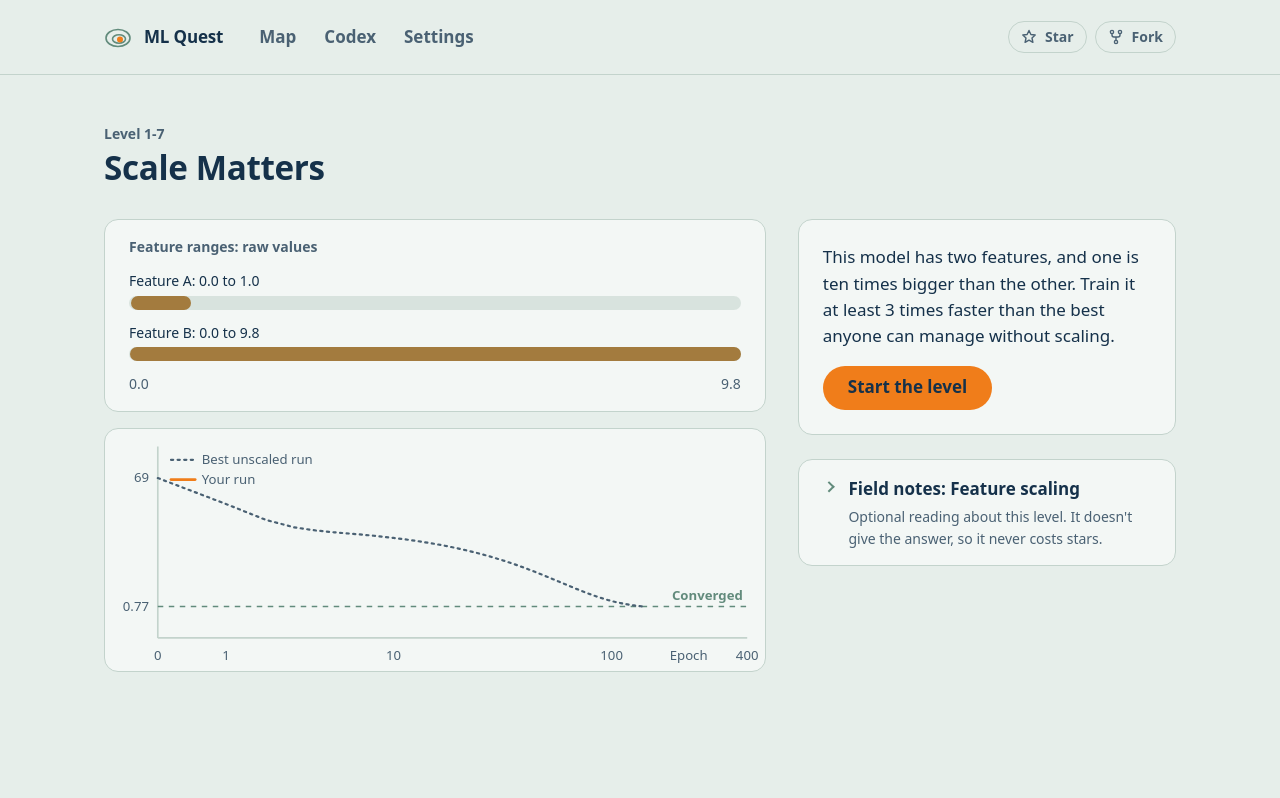
Scenario: App › Scale Matters: no scaling is 1× at best; scaling plus a bigger learning rate is far faster
The image size is (1280, 798).
Click the button "Start the level": [907, 388] box [823,366,992,410]
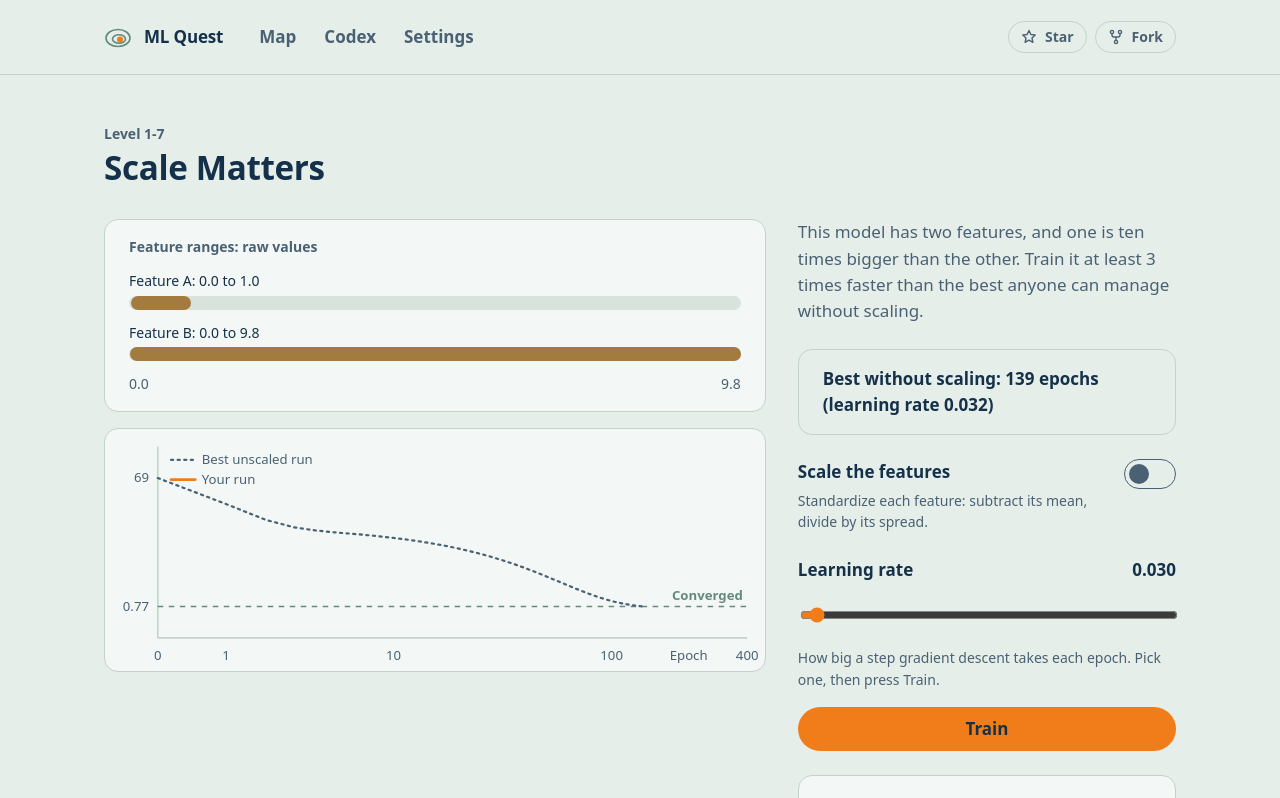
Check: the text "Best without scaling: 139 epochs (learning rate 0.032)" is shown, box [798,349,1176,435]
Click the button "Train": [987, 729] box [798,707,1176,751]
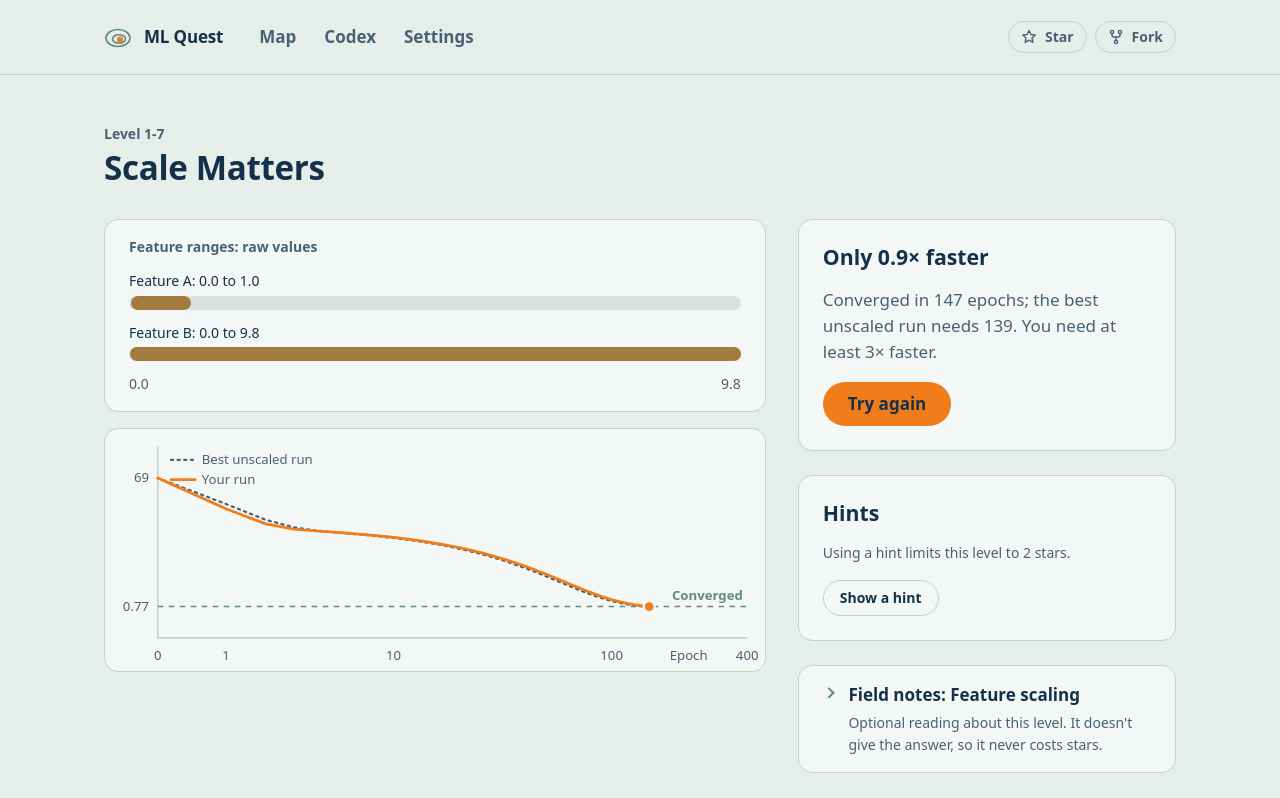
Check: the heading "Only 0.9× faster" is shown, box [823,242,989,271]
Click the button "Try again": [887, 404] box [823,382,951,426]
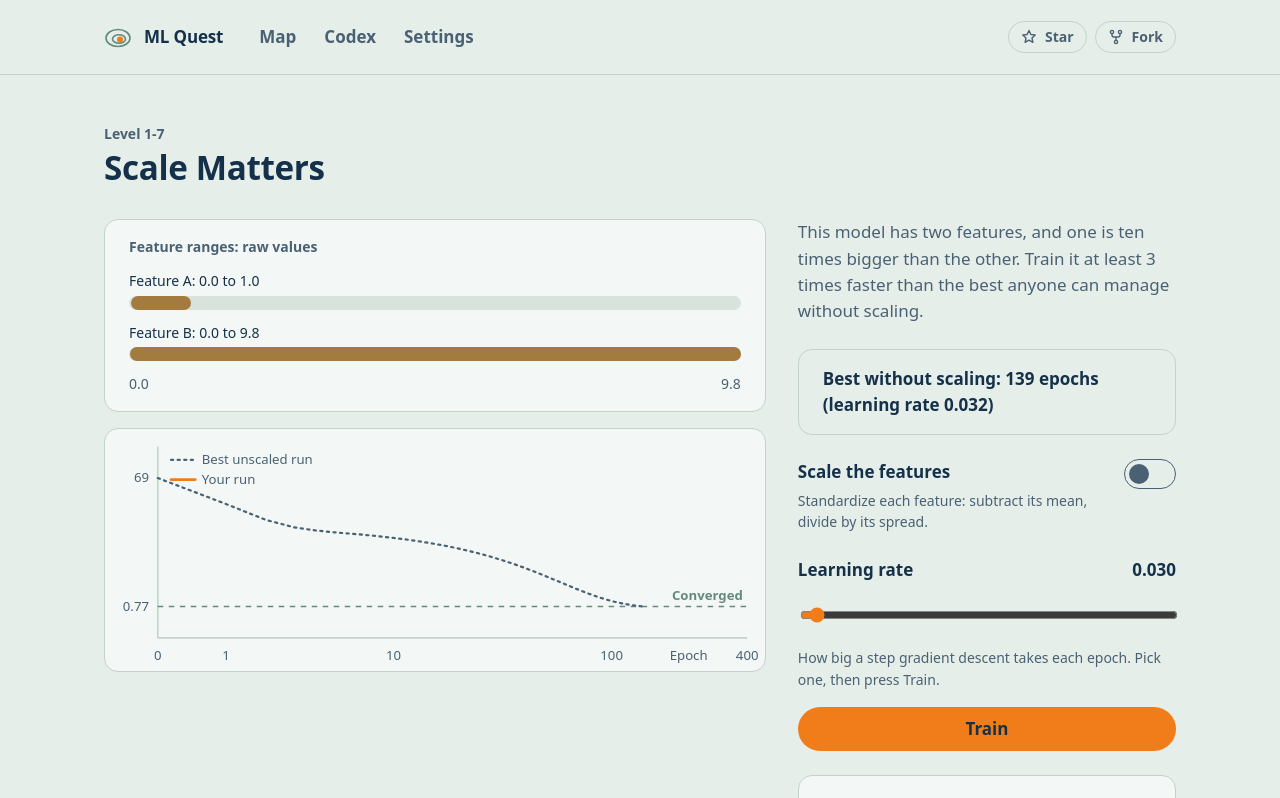
Click the switch named "Scale the features": [1150, 474] box [1124,459,1176,489]
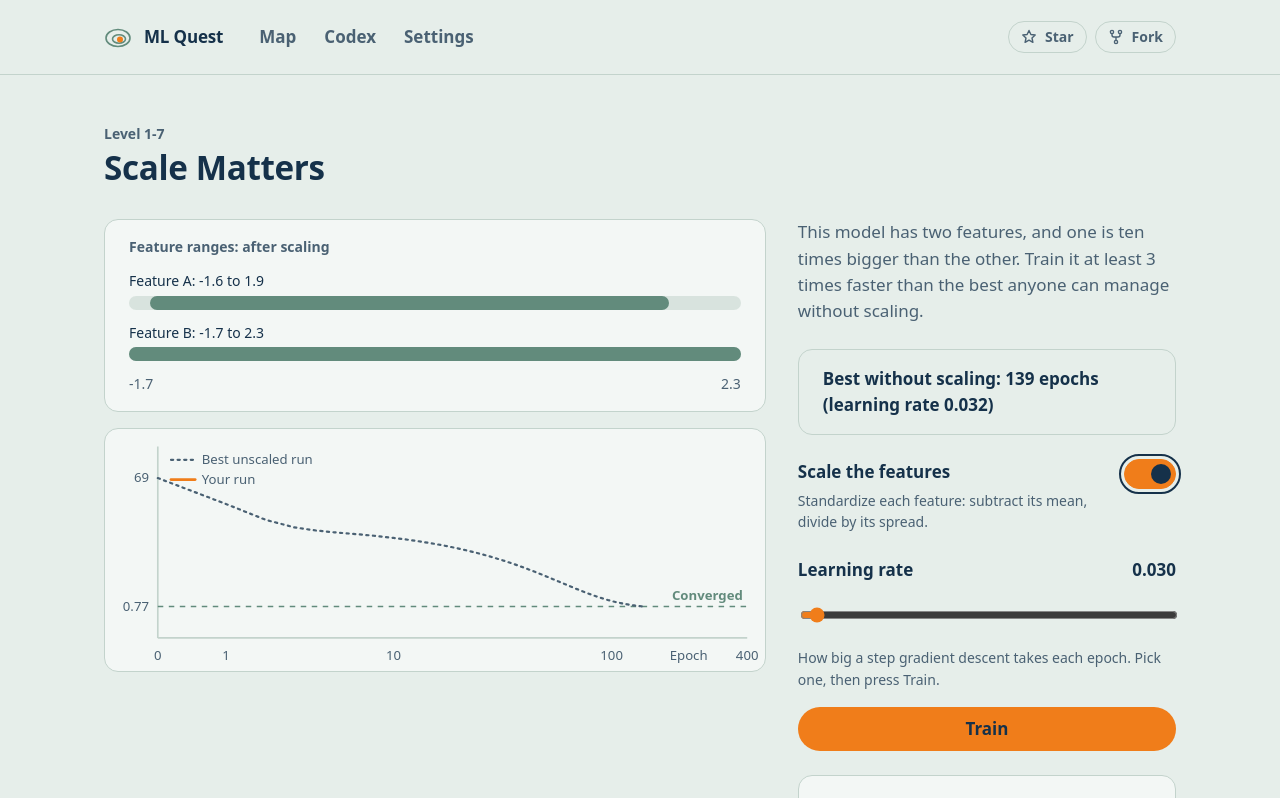
Set the slider labelled "Learning rate" to "0.5": [988, 615] box [800,593,1178,637]
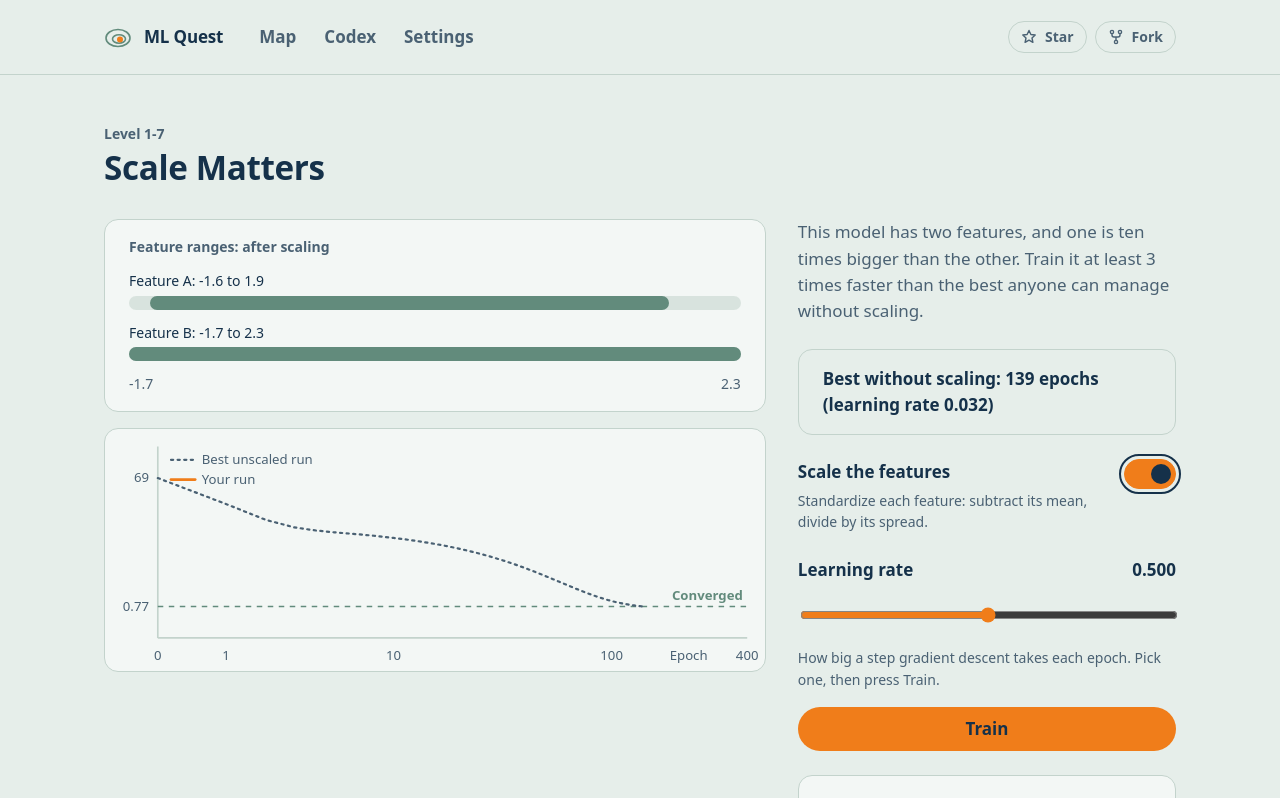
Click the button "Train": [987, 729] box [798,707,1176,751]
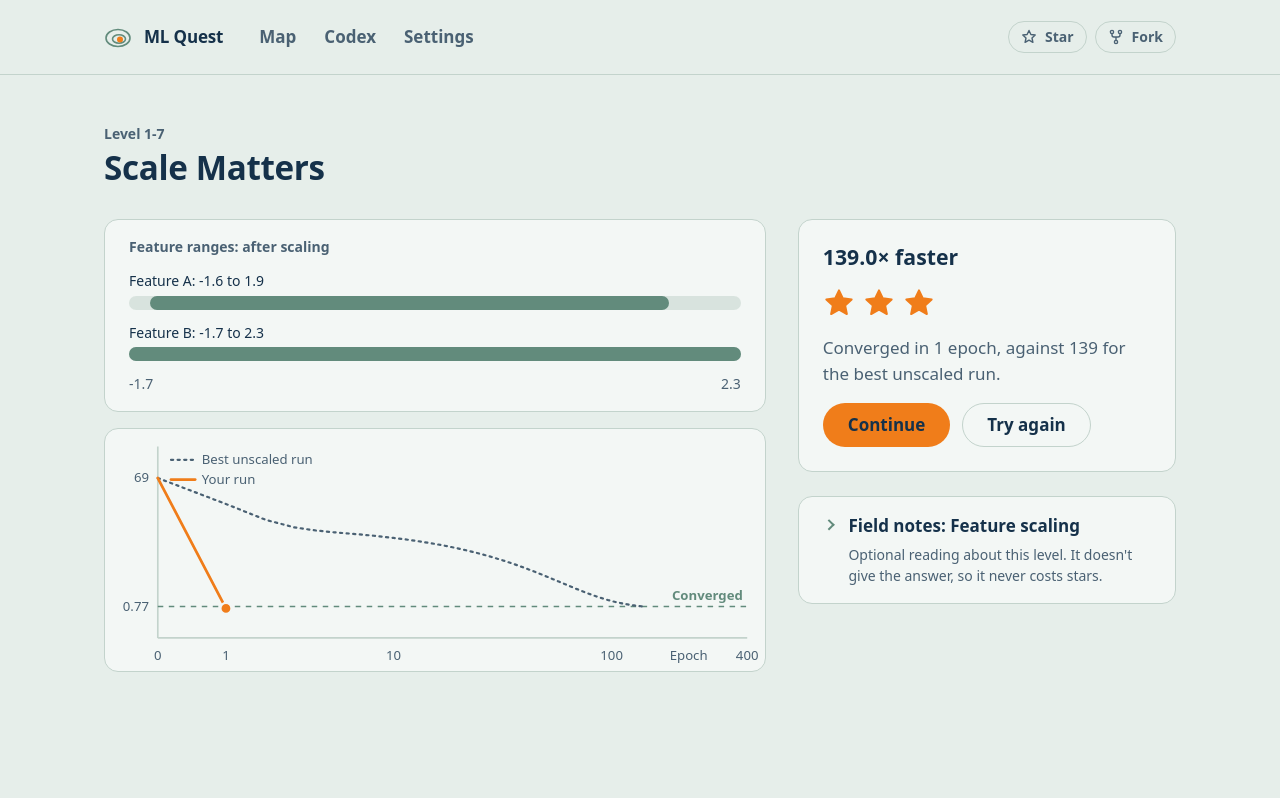
Check: the heading "139.0× faster" is shown, box [823,242,958,271]
Check: the picture named "3 of 3 stars" is shown, box [823,287,935,319]
